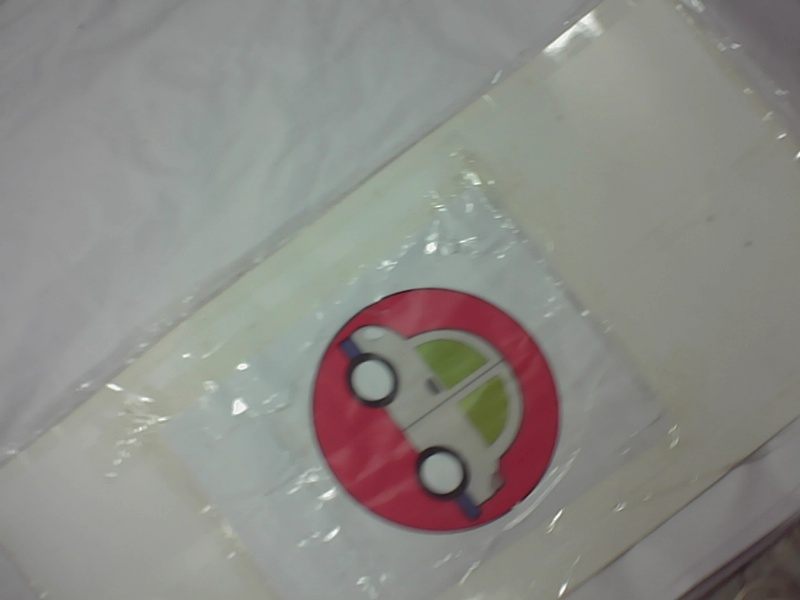areaC: (311, 289, 560, 541)
